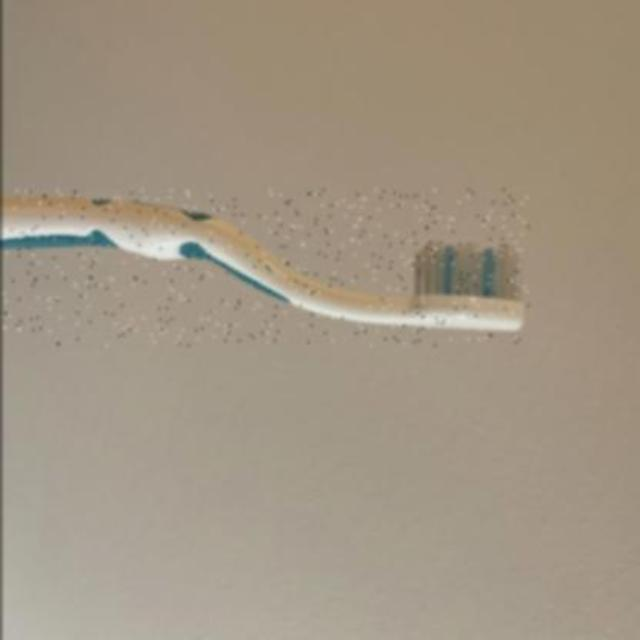toothbrush: (1, 190, 530, 346)
